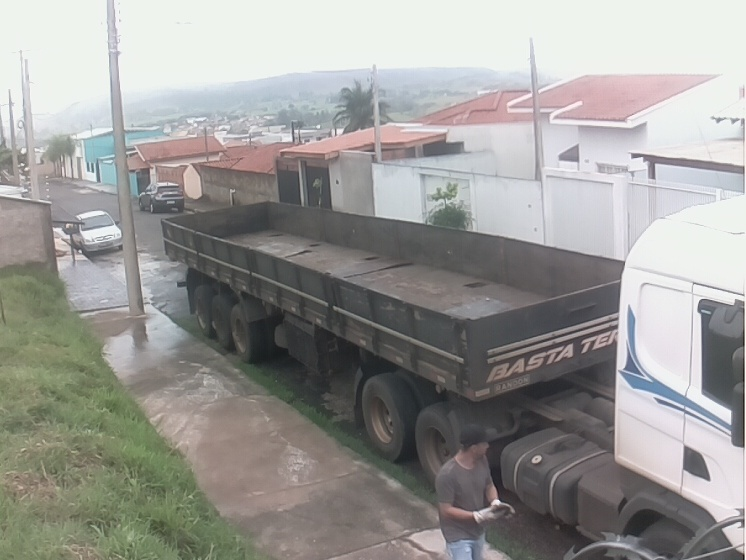person: (432, 422, 516, 559)
